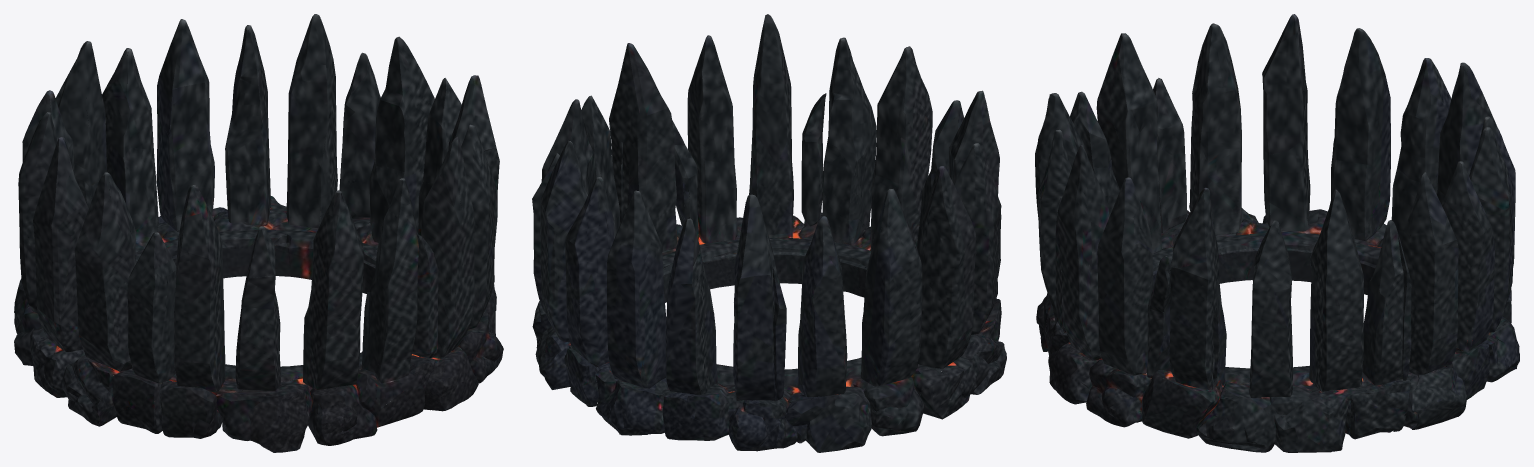
The model's file is cocoon_pieces.glb.
3 renders of one model, left to right at view 1: azimuth 30°, elevation 25°; view 2: azimuth 150°, elevation 25°; view 3: azimuth 270°, elevation 25°, orthographic. The views are drawn at different scales.
Visible parts, largest first — view 1: chunk_15, chunk_6, chunk_11, chunk_10, chunk_9, chunk_4, chunk_14, chunk_3, chunk_8, chunk_5, chunk_12, chunk_1 (+1 smaller); view 2: chunk_8, chunk_15, chunk_9, chunk_10, chunk_6, chunk_14, chunk_1, chunk_4, chunk_3, chunk_11, chunk_7, chunk_5 (+1 smaller); view 3: chunk_9, chunk_15, chunk_6, chunk_8, chunk_10, chunk_1, chunk_14, chunk_3, chunk_4, chunk_11, chunk_0, chunk_5 (+1 smaller).
Part boxes in pixels (x1,y1,x2,y2): chunk_15: (136,29,418,279); chunk_6: (33,137,218,402); chunk_11: (68,324,408,452); chunk_10: (322,136,474,410); chunk_9: (387,75,503,417); chunk_4: (169,215,351,364); chunk_14: (22,19,202,174); chunk_3: (376,36,461,233); chunk_8: (14,142,176,397); chunk_5: (132,14,392,252); chunk_12: (78,253,190,411); chunk_1: (18,112,74,259); chunk_8: (666,285,969,452); chunk_15: (532,151,680,436); chunk_9: (600,35,822,302); chunk_10: (753,14,919,241); chunk_6: (936,90,1001,398); chunk_14: (619,190,878,317); chunk_1: (865,167,941,339); chunk_4: (886,70,964,219); chunk_3: (542,95,612,213); chunk_11: (849,193,1006,394); chunk_7: (795,192,886,279); chunk_5: (555,140,664,295); chunk_9: (1048,177,1302,452); chunk_15: (1299,169,1519,452); chunk_6: (1107,14,1310,242); chunk_8: (1281,110,1511,314); chunk_10: (1035,93,1109,354); chunk_1: (1281,16,1390,237); chunk_14: (1383,58,1515,197); chunk_3: (1254,189,1360,354); chunk_4: (1038,71,1163,215); chunk_11: (1036,197,1235,356); chunk_0: (1223,239,1262,282); chunk_5: (1310,161,1483,357).
Bounding box in the file's own units: 4.45 × 2.6 × 4.45.
Materials: 1 (1 with a texture image).
